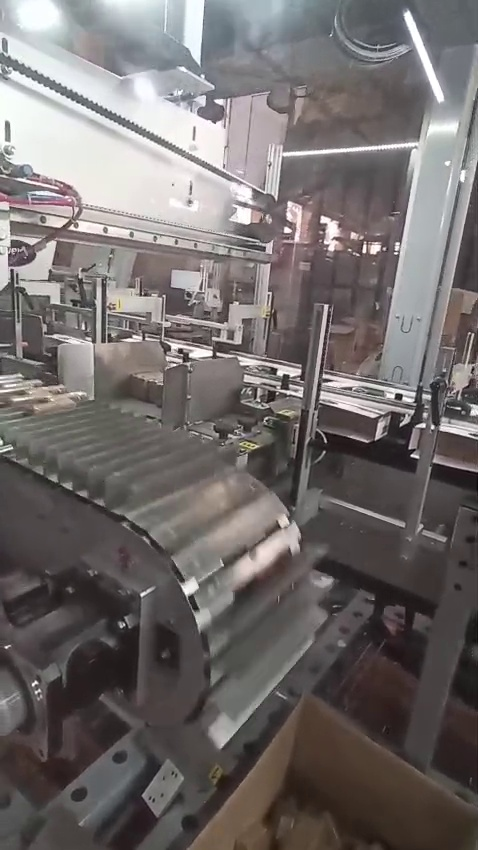savon: (191, 697, 478, 850), (208, 761, 229, 802), (240, 440, 268, 454), (447, 303, 463, 326), (224, 498, 240, 518)
